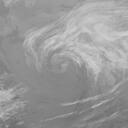cyclone: (23, 24, 96, 77)
